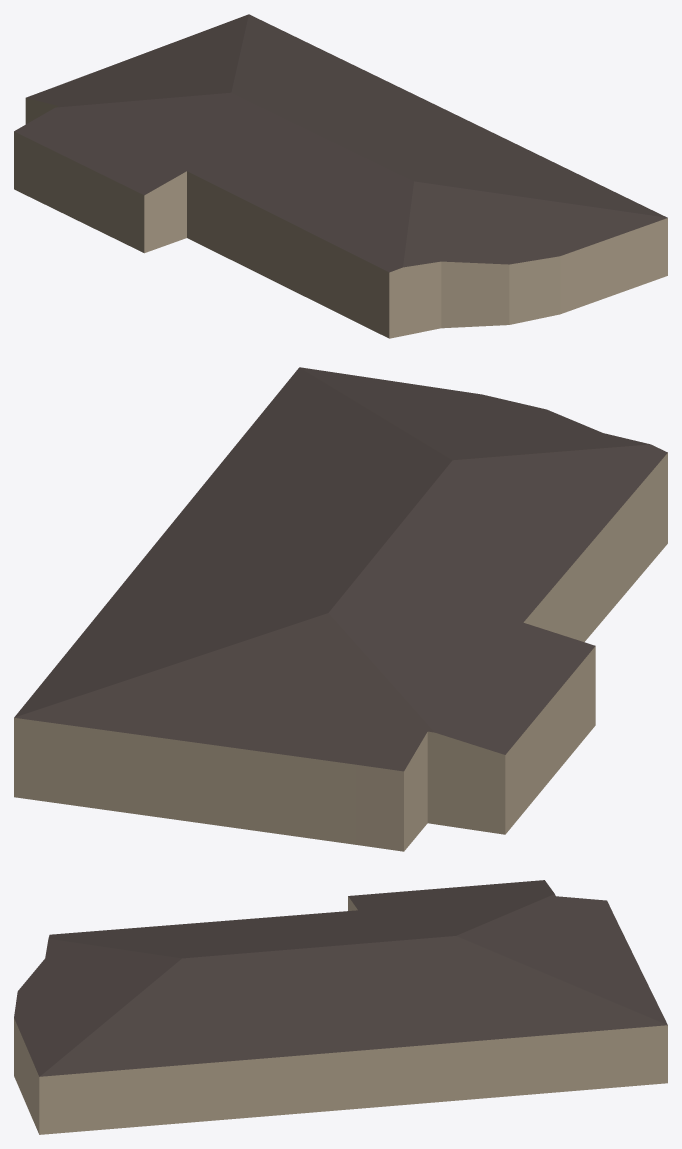
3 views of the same model, one above another, from view 1: azimuth 30°, elevation 25°; view 2: azimuth 150°, elevation 25°; view 3: azimuth 270°, elevation 25° (orthographic). The views are drawn at different scales.
Visible parts, largest first — view 1: HP-w165791764; view 2: HP-w165791764; view 3: HP-w165791764.
Boxes of the visible parts, bbox=[...] form: HP-w165791764: bbox=[14, 14, 667, 338]; HP-w165791764: bbox=[14, 367, 667, 851]; HP-w165791764: bbox=[14, 880, 667, 1134].
Size of the model in its own units: 43.6 by 9 by 61.27.
